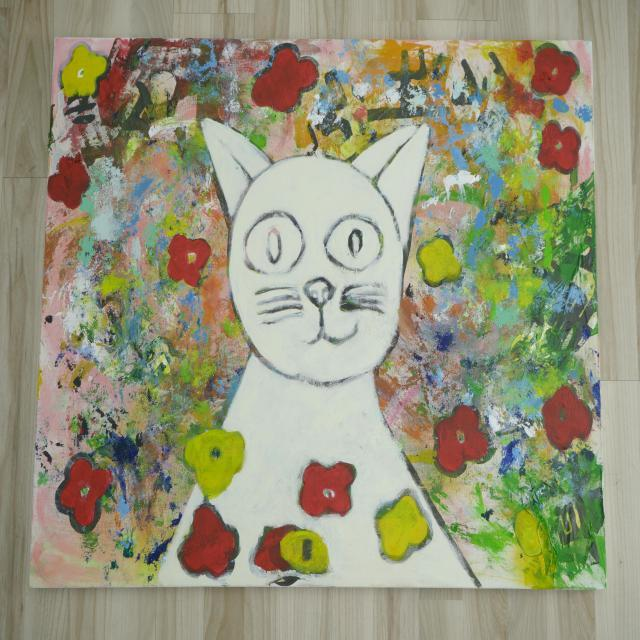painting: (31, 38, 605, 588)
